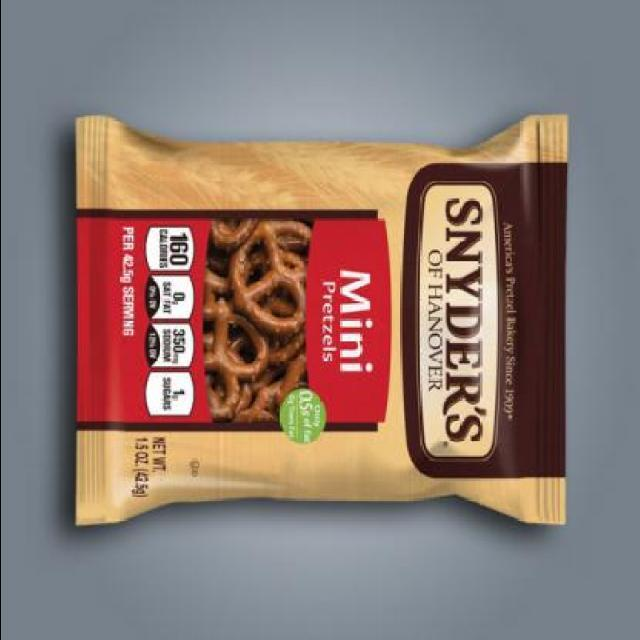Salatini: (67, 109, 571, 540)
